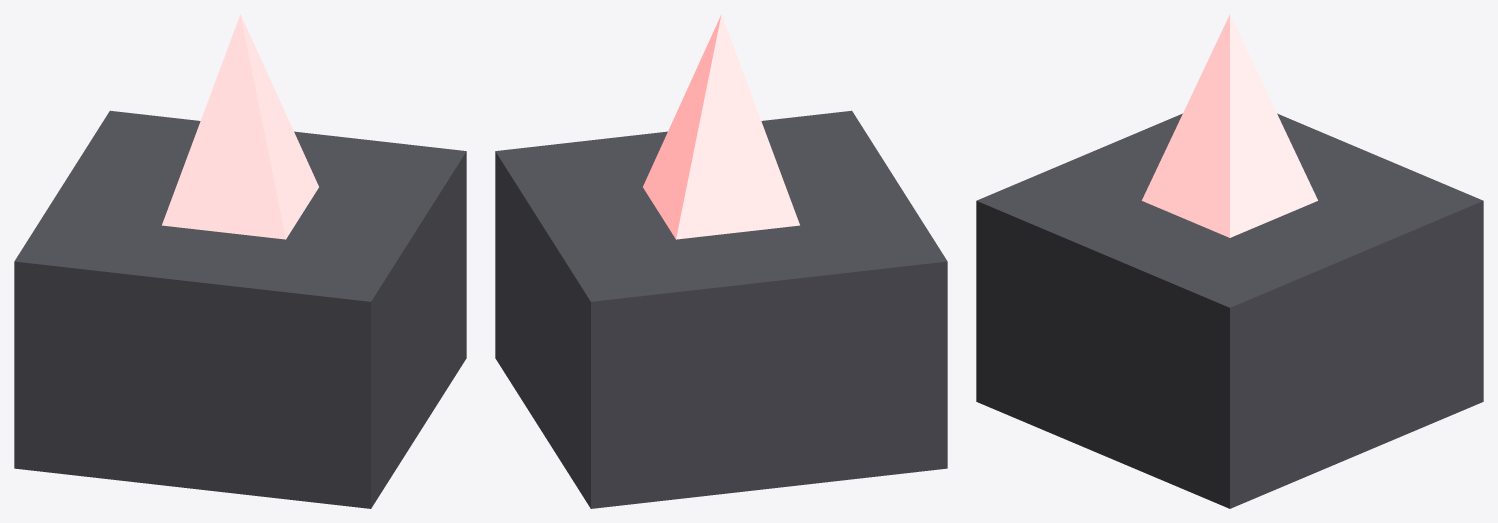
The model's file is tower_missile_lod2.glb.
3 views of the same model, side by side, from view 1: azimuth 30°, elevation 25°; view 2: azimuth 150°, elevation 25°; view 3: azimuth 270°, elevation 25° (orthographic). The views are drawn at different scales.
Parts seen in each view (by area): view 1: tower_missile_lod2; view 2: tower_missile_lod2; view 3: tower_missile_lod2.
Boxes of the visible parts, x1,y1,x2,y2 form: tower_missile_lod2: (14,14,466,508); tower_missile_lod2: (495,14,947,508); tower_missile_lod2: (976,14,1483,508).
Bounding box in the file's own units: 0.8 × 0.675 × 0.8.
